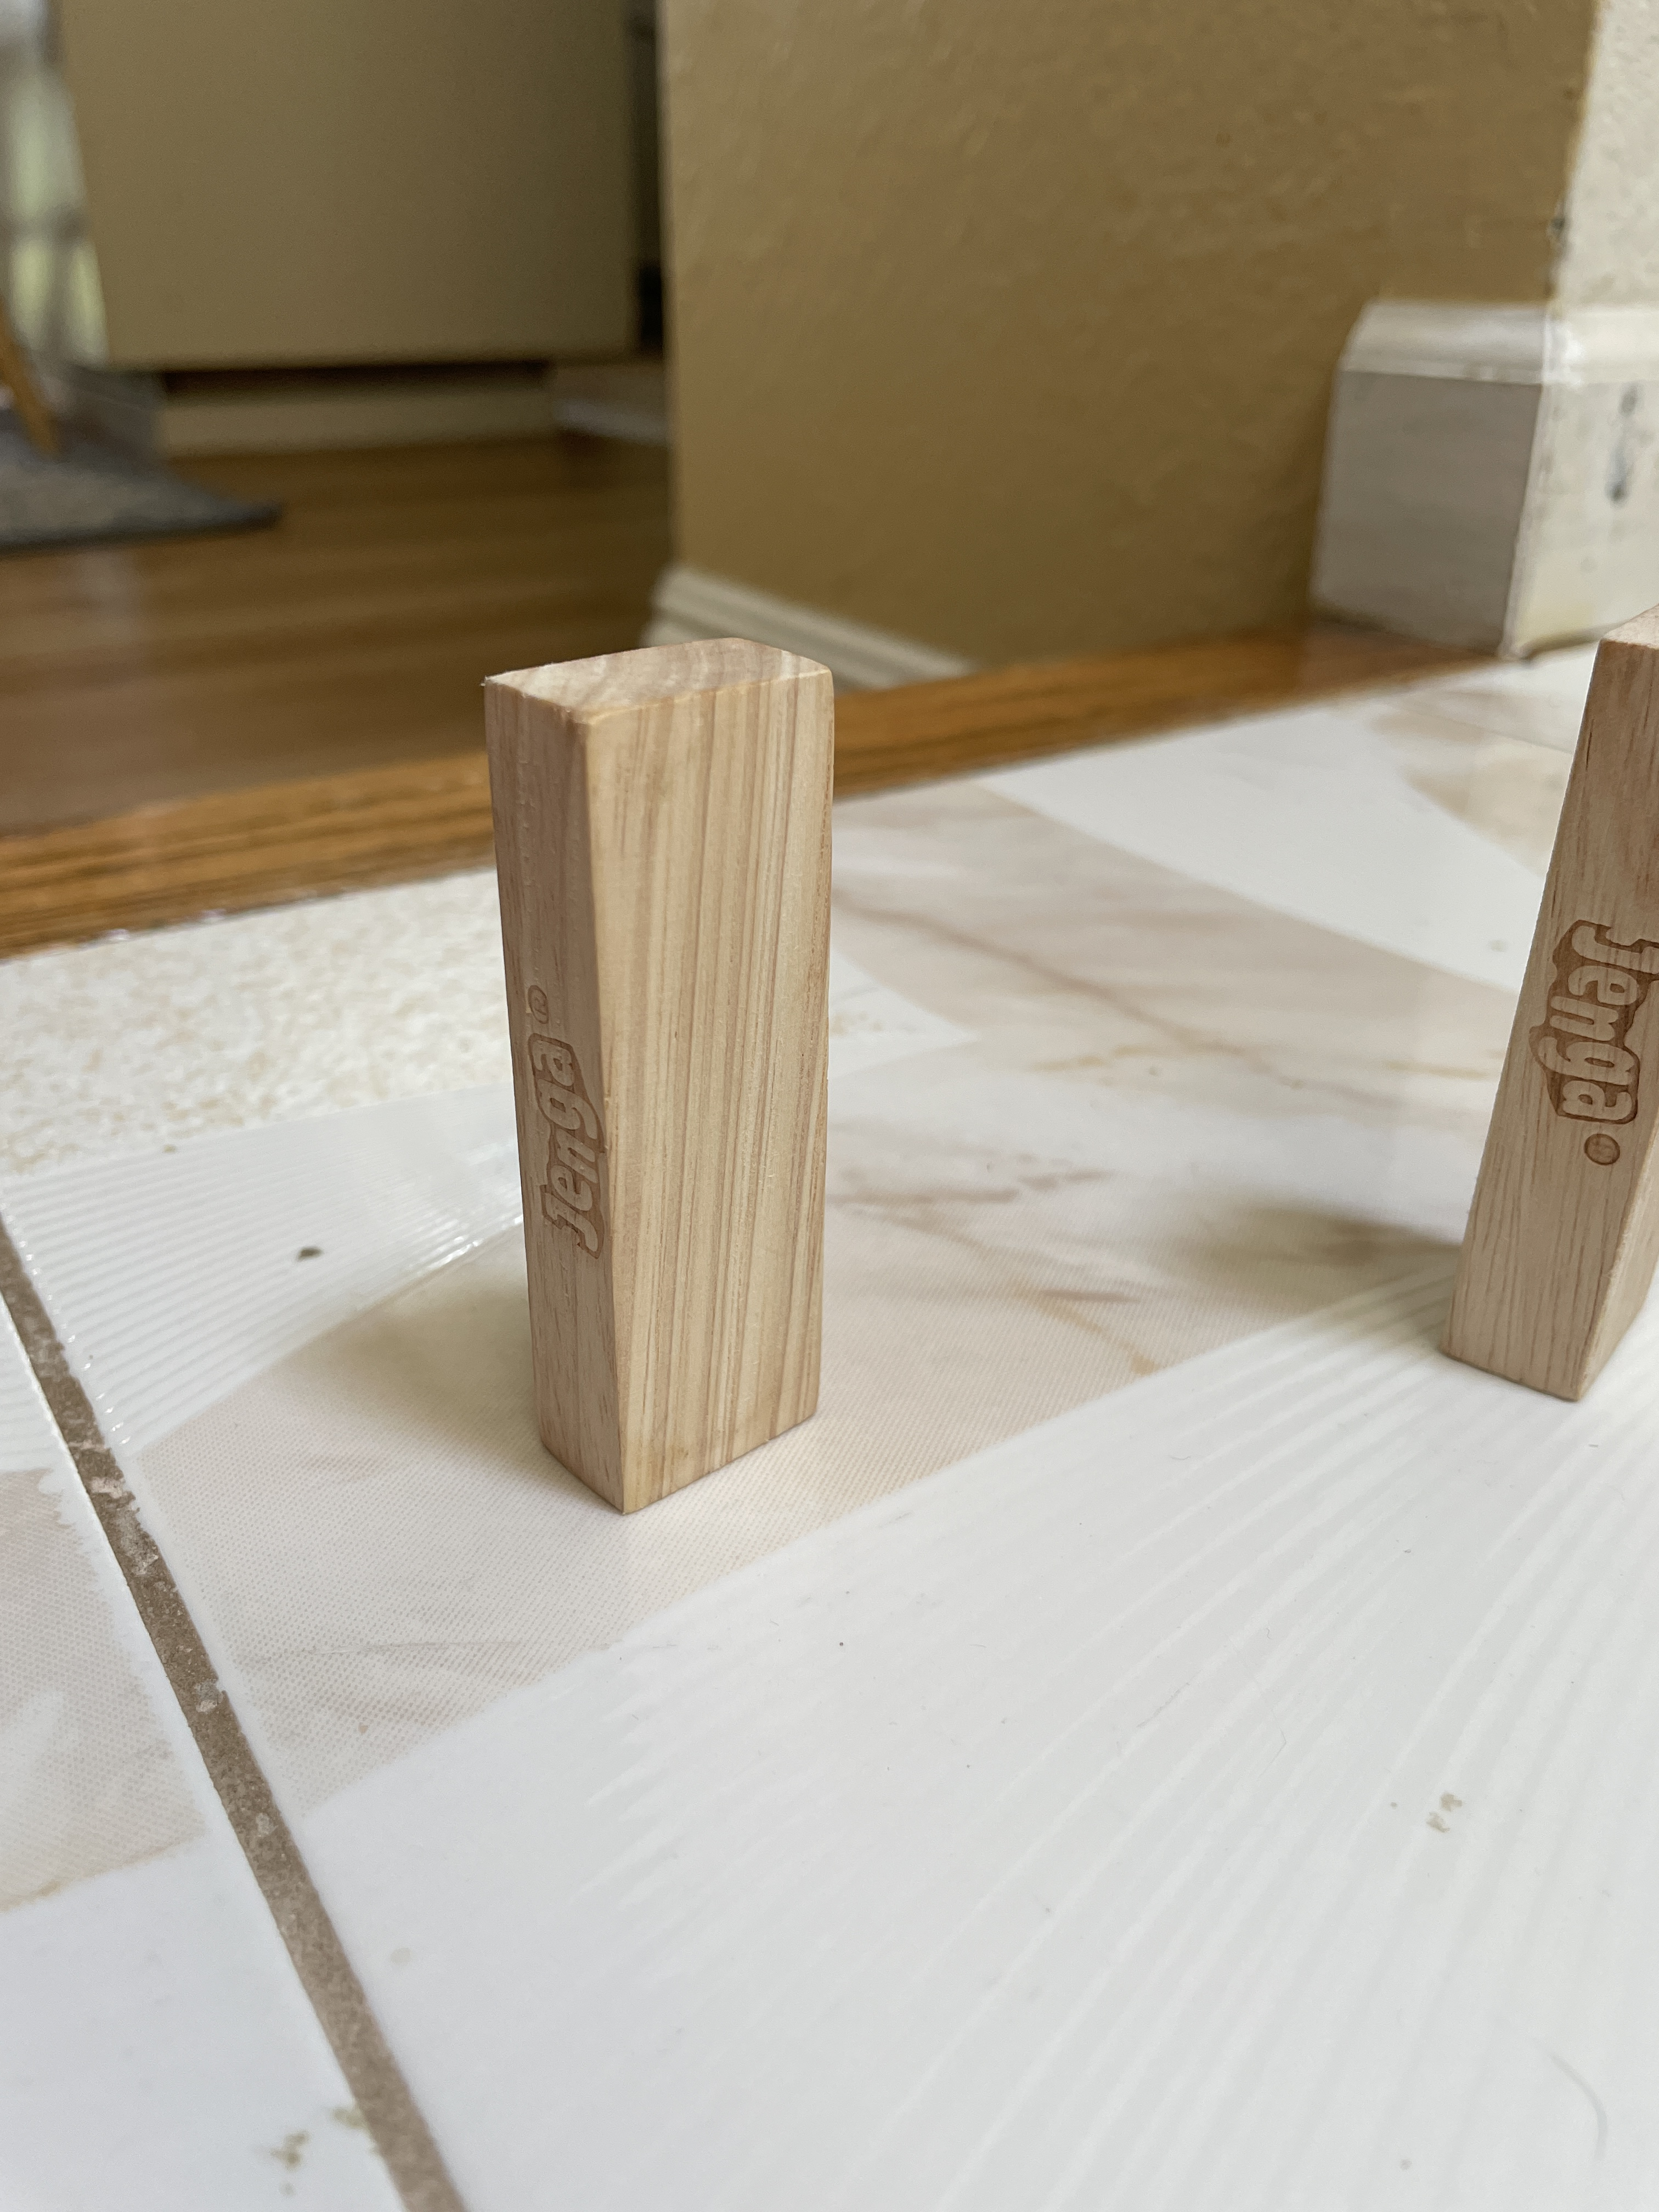jenga: (429, 632, 908, 1507), (1436, 631, 1659, 1392)
